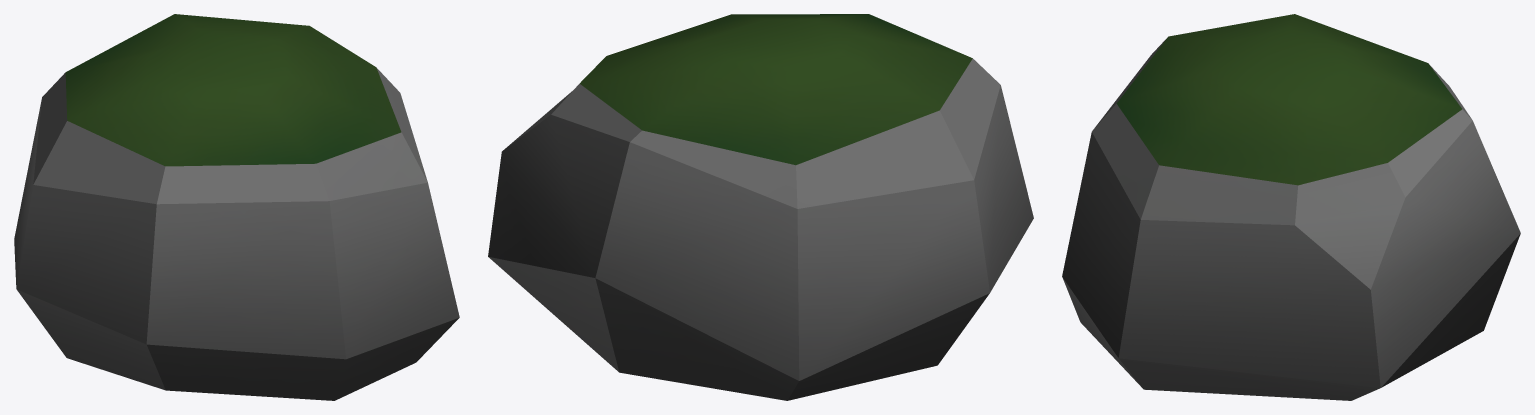
Rendered from rocher19_01.FBX.
The picture shows the model from 3 angles, left to right: view 1: azimuth 30°, elevation 25°; view 2: azimuth 150°, elevation 25°; view 3: azimuth 270°, elevation 25°; orthographic projection. The views are drawn at different scales.
Visible parts, largest first — view 1: rocher19_LOD00; view 2: rocher19_LOD00; view 3: rocher19_LOD00.
Boxes of the visible parts, x1,y1,x2,y2 form: rocher19_LOD00: [14, 14, 459, 400]; rocher19_LOD00: [488, 14, 1033, 400]; rocher19_LOD00: [1062, 14, 1520, 400].
Size of what is drawn, in the model's own units: 2.77 by 1.88 by 2.63.
